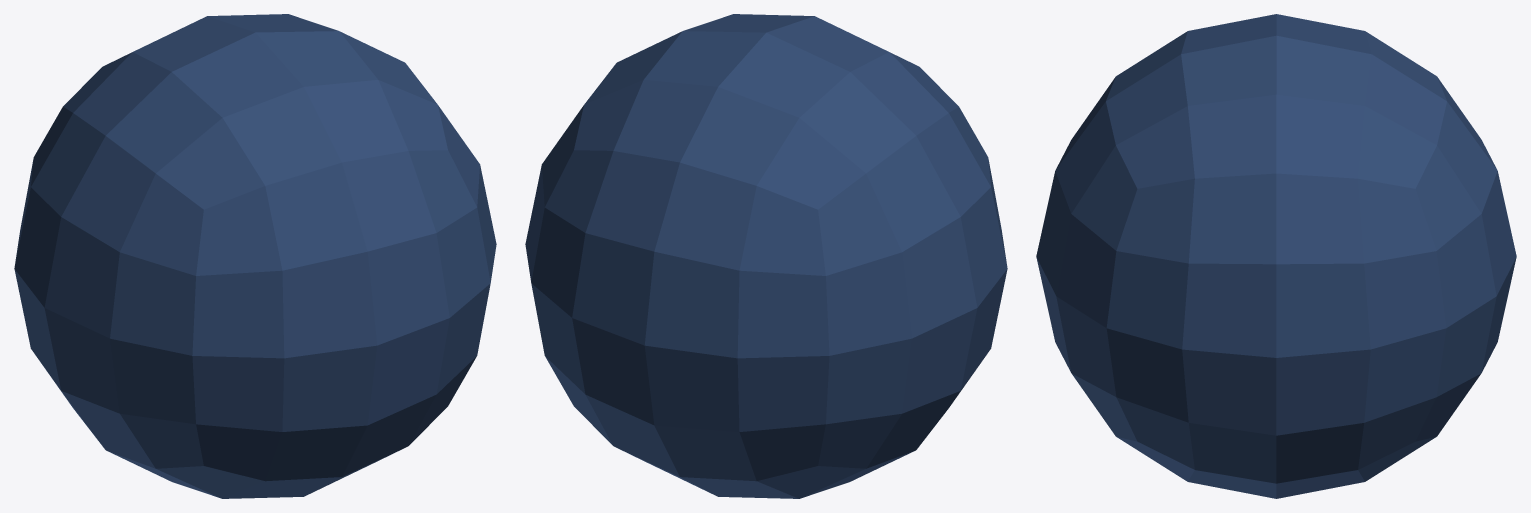
Rendered from SM_Env_Scale_Neptune_01.fbx.
3 views of the same model, side by side, from view 1: azimuth 30°, elevation 25°; view 2: azimuth 150°, elevation 25°; view 3: azimuth 270°, elevation 25° (orthographic).
Visible parts, largest first — view 1: SM_Env_Scale_Neptune_01; view 2: SM_Env_Scale_Neptune_01; view 3: SM_Env_Scale_Neptune_01.
Boxes of the visible parts, box(x1,y1,x2,y2) form: SM_Env_Scale_Neptune_01: box(14, 14, 496, 498); SM_Env_Scale_Neptune_01: box(525, 14, 1007, 498); SM_Env_Scale_Neptune_01: box(1036, 14, 1516, 498).
Bounding box in the file's own units: 13.92 × 14.12 × 13.92.
